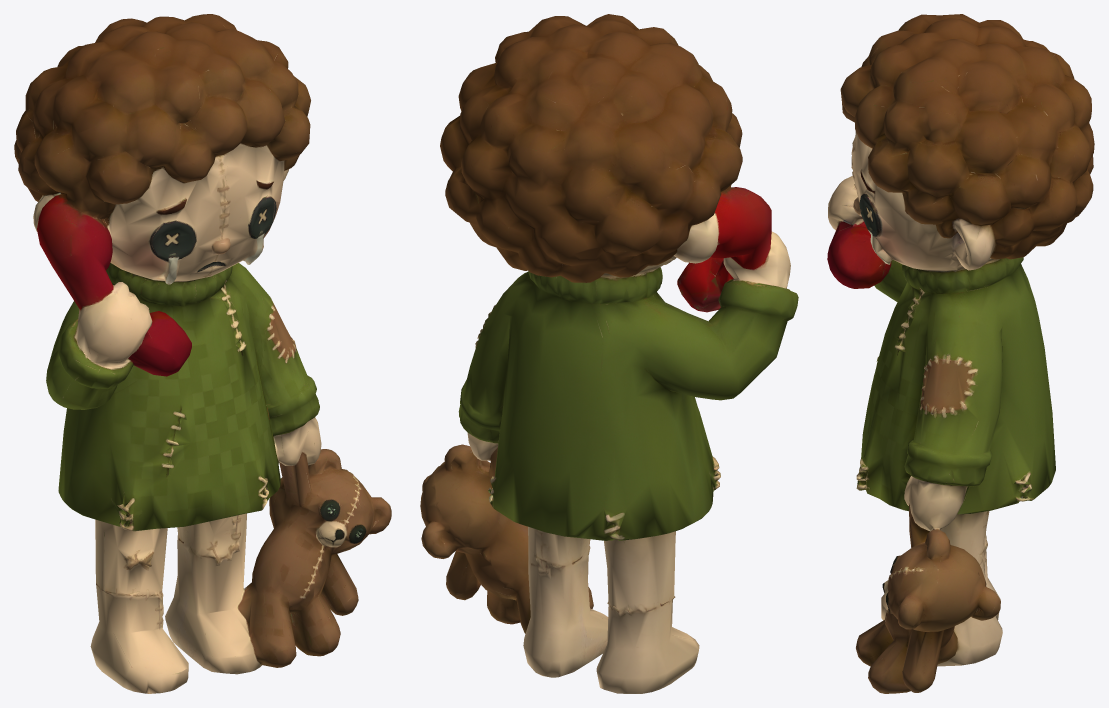
Rendered from Meshy_AI_Crying_Patchwork_Chil_0428222854_texture.fbx.
The picture shows the model from 3 angles, left to right: view 1: azimuth 30°, elevation 25°; view 2: azimuth 150°, elevation 25°; view 3: azimuth 270°, elevation 25°; orthographic projection. The views are drawn at different scales.
Visible parts, largest first — view 1: Mesh_0; view 2: Mesh_0; view 3: Mesh_0.
Part boxes in pixels (<box>): Mesh_0: <box>14,14,391,693</box>; Mesh_0: <box>420,14,798,693</box>; Mesh_0: <box>827,14,1094,693</box>.
Bounding box in the file's own units: 109 × 191 × 76.06.
1 material, 1 textured.
